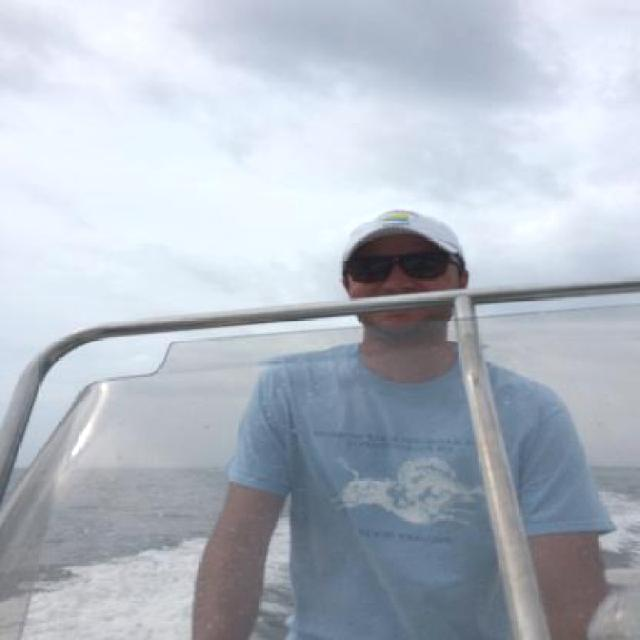glasses: (342, 250, 476, 284)
head_nohelmet: (334, 208, 468, 254)
